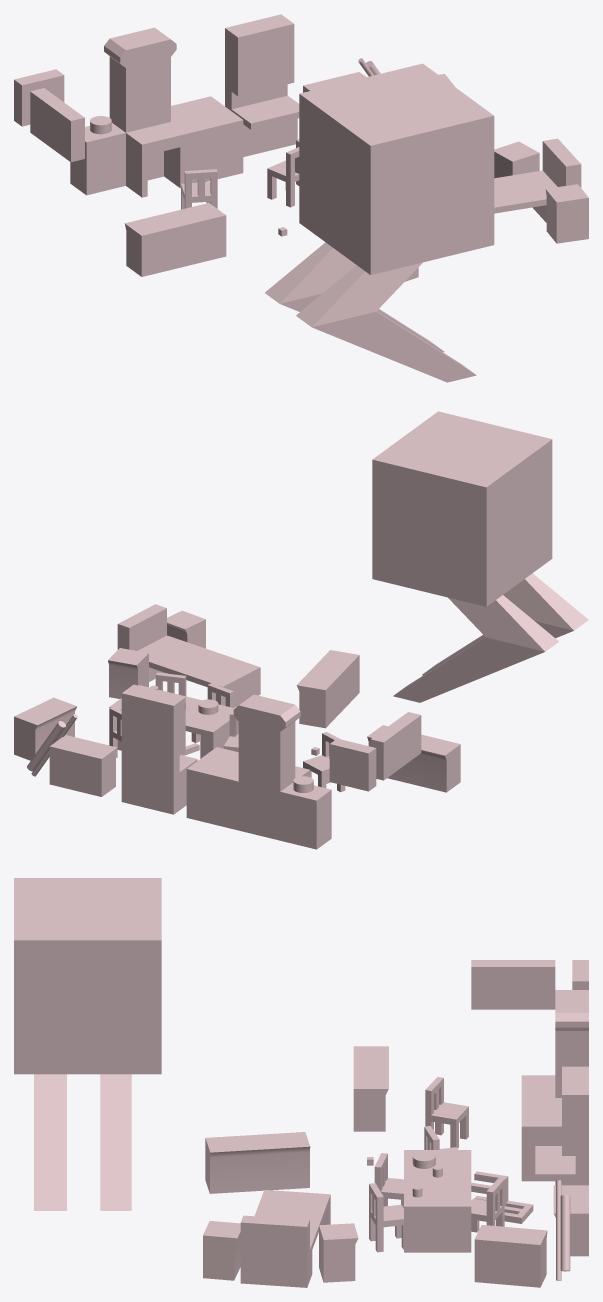
Rendered from Whitebox2.fbx.
The picture shows the model from 3 angles, top to bottom: view 1: azimuth 30°, elevation 25°; view 2: azimuth 150°, elevation 25°; view 3: azimuth 270°, elevation 25°; orthographic projection. The views are drawn at different scales.
Visible parts, largest first — view 1: BabaYagaHut, Chimney, Counter3, Counter, Cot, Counter4, Counter8, Counter2, Counter7, Chair1, Chair2; view 2: BabaYagaHut, Chimney, Counter3, Cot, Counter6, Counter1, Counter, Counter4, Counter5, Counter2, Cot1, Counter7 (+2 smaller); view 3: BabaYagaHut, Cot, Cot1, Chimney, Counter6, Counter4, Counter3, Counter5, Counter, Counter7, Counter8, Chair1 (+7 smaller).
Boxes of the visible parts, x1,y1,x2,y2 form: BabaYagaHut: (265, 63, 494, 382); Chimney: (70, 27, 243, 197); Counter3: (225, 14, 299, 156); Counter: (124, 203, 226, 276); Cot: (494, 138, 581, 222); Counter4: (30, 88, 84, 162); Counter8: (545, 184, 588, 243); Counter2: (14, 69, 64, 126); Counter7: (494, 141, 539, 178); Chair1: (181, 169, 217, 209); Chair2: (267, 147, 299, 207); BabaYagaHut: (372, 411, 588, 702); Chimney: (186, 694, 331, 849); Counter3: (121, 684, 197, 814); Cot: (117, 604, 260, 707); Counter6: (296, 650, 359, 728); Counter1: (49, 735, 117, 796); Counter: (367, 725, 460, 792); Counter4: (370, 712, 421, 780); Counter5: (14, 697, 76, 760); Counter2: (329, 738, 376, 791); Cot1: (109, 685, 238, 758); Counter7: (108, 648, 148, 698); BabaYagaHut: (14, 878, 161, 1210); Cot: (240, 1190, 330, 1287); Cot1: (404, 1150, 471, 1252); Chimney: (521, 990, 588, 1181); Counter6: (205, 1132, 310, 1193); Counter4: (471, 960, 555, 1009); Counter3: (535, 1066, 588, 1185); Counter5: (474, 1225, 547, 1287); Counter: (353, 1046, 388, 1131); Counter7: (319, 1223, 358, 1282); Counter8: (203, 1221, 240, 1280); Chair1: (425, 1077, 468, 1148).
Size of the model in its own units: 72.47 by 44.98 by 85.48.
